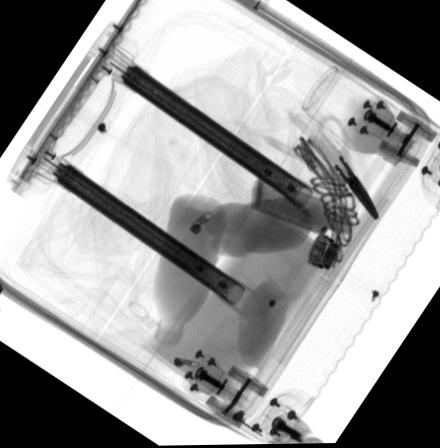Scissors: (300, 113, 380, 219)
